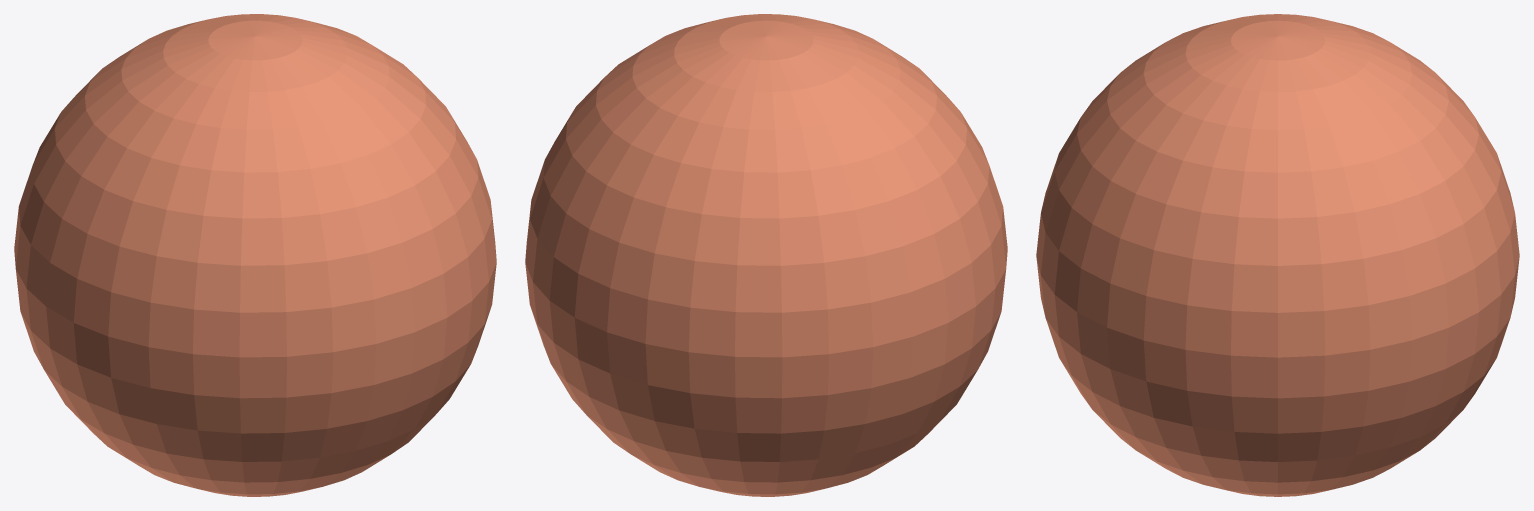
File: planetesAllegee.gltf
3 views of the same model, side by side, from view 1: azimuth 30°, elevation 25°; view 2: azimuth 150°, elevation 25°; view 3: azimuth 270°, elevation 25° (orthographic).
Parts seen in each view (by area): view 1: Sphere.001; view 2: Sphere.001; view 3: Sphere.001.
Part boxes in pixels (bbox=[...]): Sphere.001: bbox=[14, 14, 496, 496]; Sphere.001: bbox=[525, 14, 1007, 496]; Sphere.001: bbox=[1036, 14, 1519, 496].
Size of the model in its own units: 2.09 by 2.09 by 2.09.
2 materials, 2 textured.
